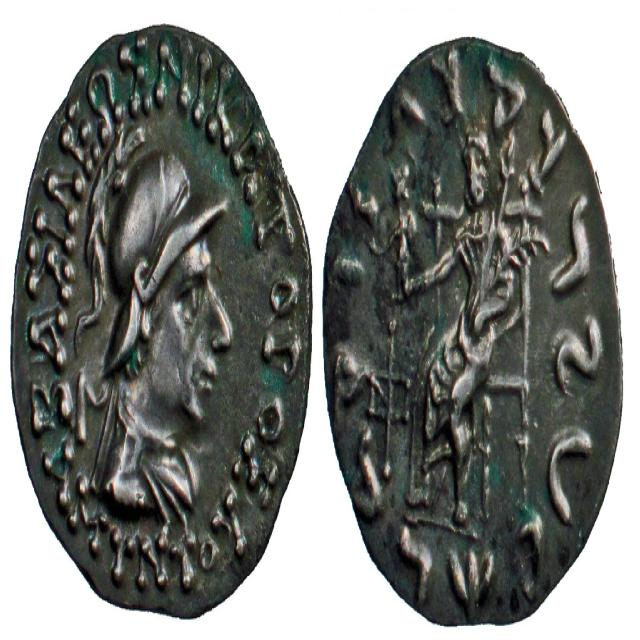Coin: (8, 23, 313, 618), (323, 29, 622, 623)
